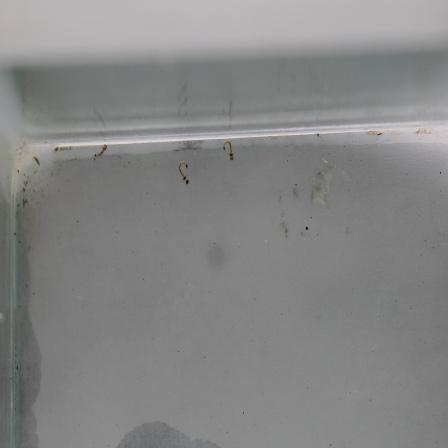Jentik-Nyamuk: (176, 156, 198, 189), (218, 139, 239, 167)
